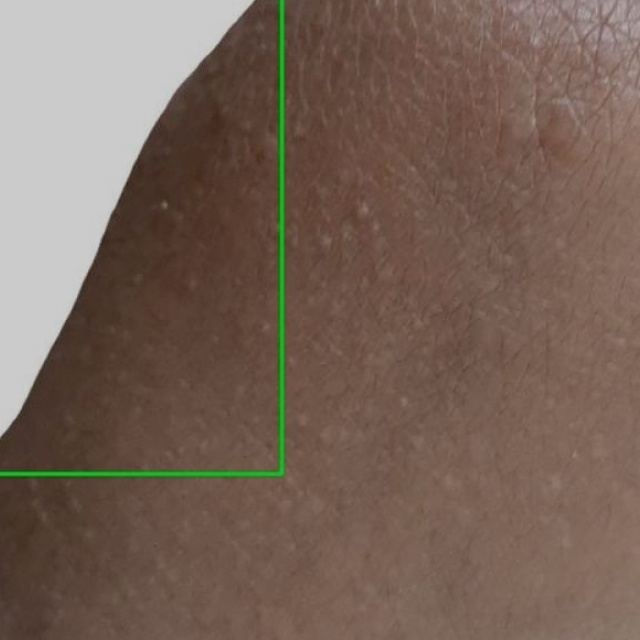Scabies: (0, 0, 281, 474)
